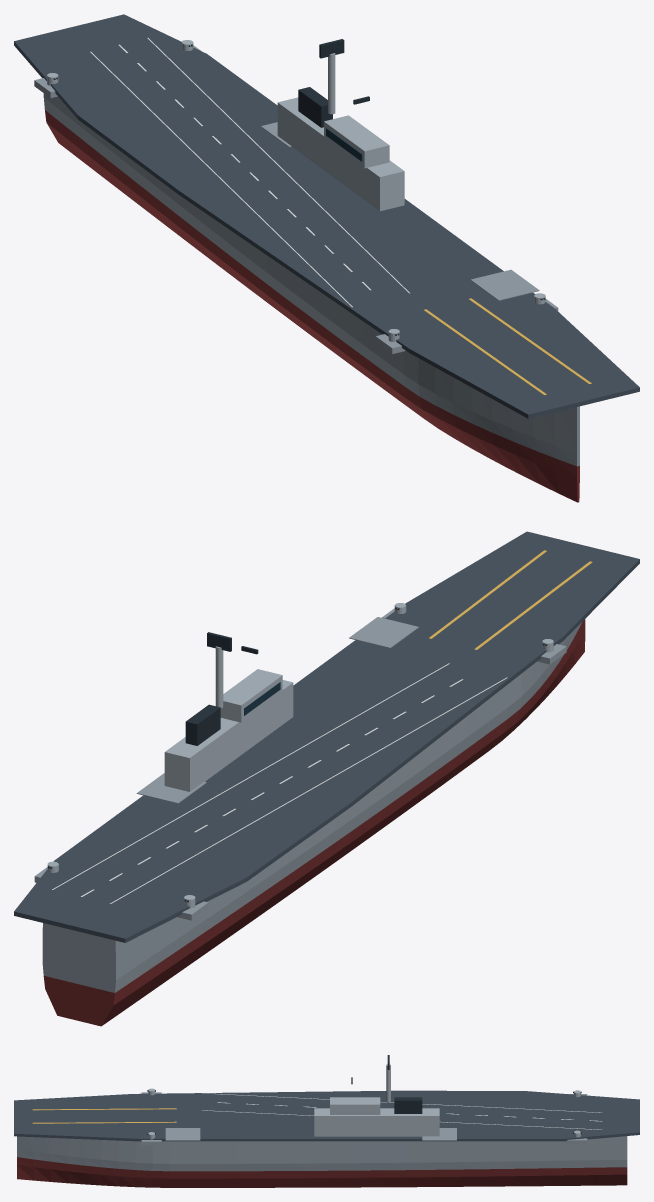
The model's file is ran_cvl_melbourne_1959.obj.
3 views of the same model, one above another, from view 1: azimuth 30°, elevation 25°; view 2: azimuth 150°, elevation 25°; view 3: azimuth 270°, elevation 25° (orthographic). The views are drawn at different scales.
Parts seen in each view (by area): view 1: FlightDeck, Hull, UnderwaterHull, Island, Bridge, Elevator_1, Funnel; view 2: FlightDeck, Hull, UnderwaterHull, Island, Bridge, Elevator_1, Funnel, Elevator_2; view 3: FlightDeck, Hull, UnderwaterHull, Island, Bridge, Funnel, Elevator_1, LandingEdge_-1, Elevator_2, LandingEdge_1, Catapult_1, Catapult_2.
Boxes of the visible parts, box(x1,y1,x2,y2) form: FlightDeck: box(14, 14, 639, 418); Hull: box(43, 93, 579, 466); UnderwaterHull: box(45, 110, 579, 502); Island: box(277, 97, 404, 211); Bridge: box(324, 115, 389, 168); Elevator_1: box(471, 269, 539, 300); Funnel: box(298, 87, 332, 127); FlightDeck: box(14, 531, 639, 942); Hull: box(42, 622, 581, 992); UnderwaterHull: box(43, 619, 585, 1026); Island: box(164, 680, 293, 791); Bridge: box(220, 669, 282, 722); Elevator_1: box(349, 617, 418, 648); Funnel: box(185, 704, 220, 745); Elevator_2: box(136, 773, 206, 803); FlightDeck: box(14, 1090, 639, 1141); Hull: box(17, 1136, 627, 1171); UnderwaterHull: box(17, 1157, 627, 1187); Island: box(314, 1108, 439, 1136); Bridge: box(330, 1097, 380, 1114); Funnel: box(394, 1097, 422, 1113); Elevator_1: box(165, 1128, 200, 1140); LandingEdge_-1: box(202, 1093, 601, 1112); Elevator_2: box(422, 1128, 456, 1140); LandingEdge_1: box(202, 1110, 601, 1129); Catapult_1: box(32, 1121, 176, 1123); Catapult_2: box(32, 1108, 176, 1110).
Size of the model in its own units: 41.1 by 53 by 217.
